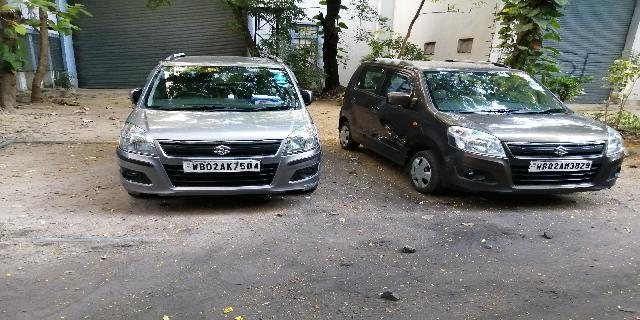Car: (335, 54, 625, 201), (114, 52, 328, 203)
